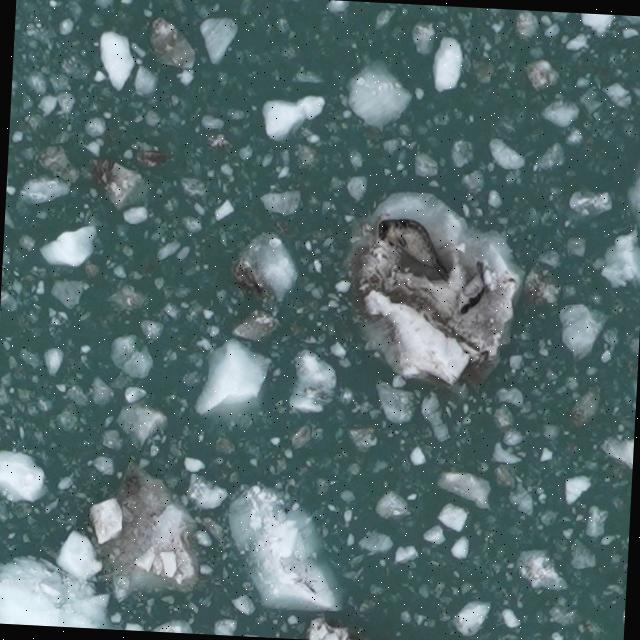seal: (372, 216, 458, 283), (454, 257, 492, 320)
